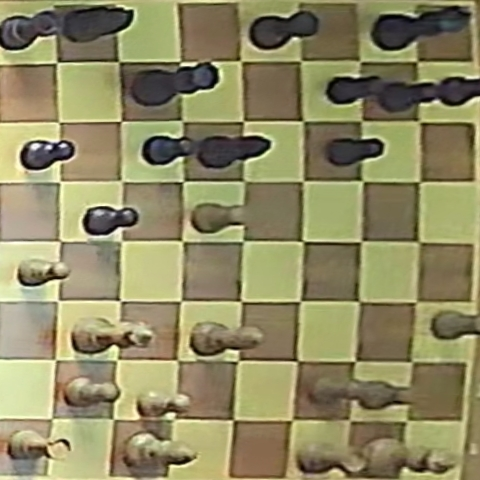black-bishop: (195, 134, 273, 167)
black-king: (374, 6, 472, 51)
black-knight: (61, 5, 137, 46)
black-pawn: (142, 133, 201, 167), (377, 80, 439, 112), (328, 75, 389, 106), (327, 137, 383, 167), (84, 205, 138, 236), (22, 139, 76, 170), (433, 76, 477, 106)
black-queen: (131, 62, 223, 106)
black-rook: (251, 10, 319, 50), (0, 9, 65, 49)
white-bishop: (123, 431, 197, 470), (191, 322, 263, 355)
white-king: (360, 438, 461, 476)
white-pawn: (8, 430, 71, 460), (358, 382, 418, 411), (65, 377, 119, 407), (17, 258, 71, 287), (192, 203, 243, 233), (311, 376, 365, 404), (137, 390, 190, 417), (432, 310, 478, 340)
white-queen: (73, 317, 153, 352)
white-rook: (300, 441, 368, 474)
